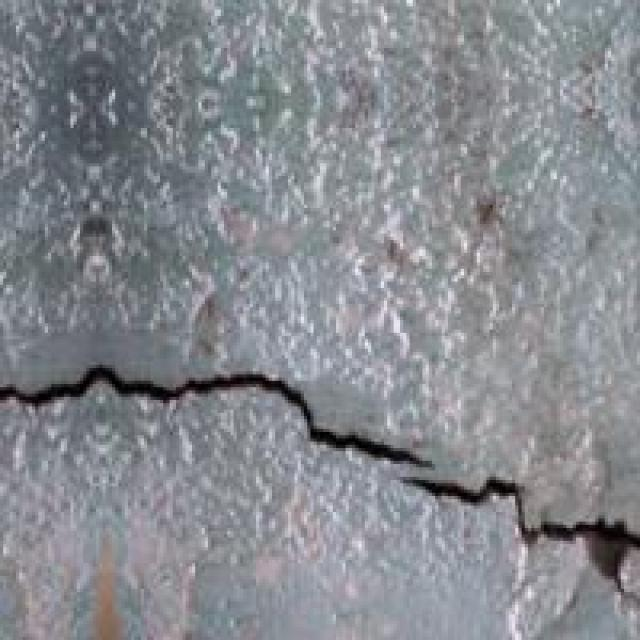Crack: (0, 307, 634, 605)
